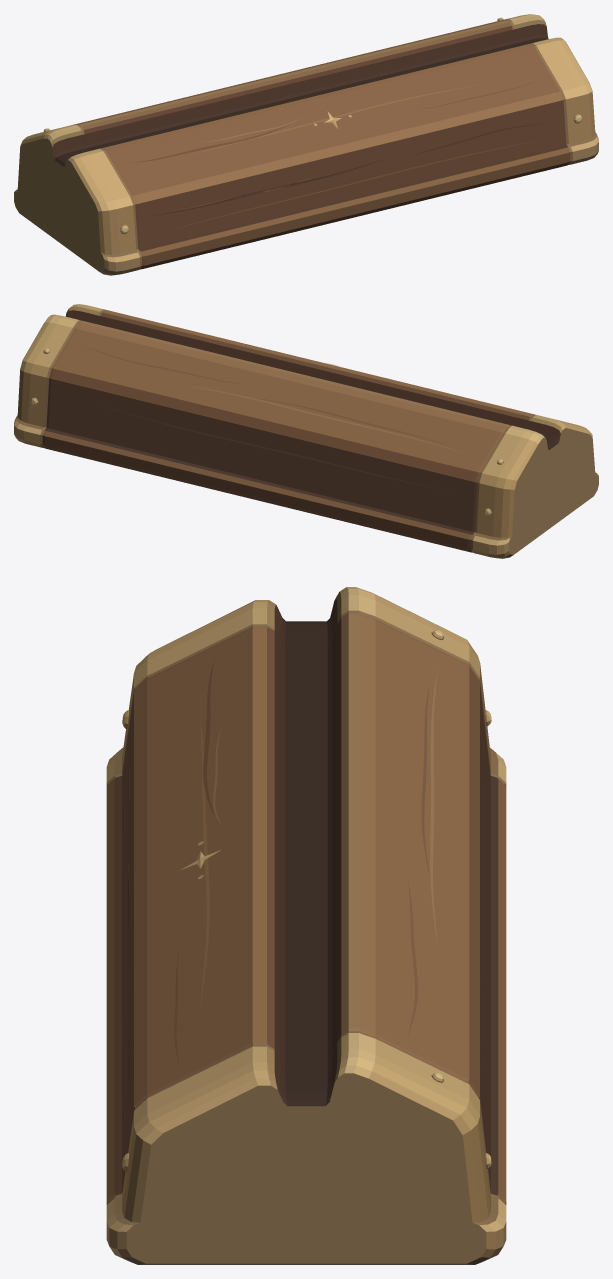
Rendered from postcard_stand.glb.
3 renders of one model, top to bottom at view 1: azimuth 30°, elevation 25°; view 2: azimuth 150°, elevation 25°; view 3: azimuth 270°, elevation 25°, orthographic. The views are drawn at different scales.
Visible parts, largest first — view 1: Postcard stand; view 2: Postcard stand; view 3: Postcard stand.
Boxes of the visible parts, x1,y1,x2,y2 form: Postcard stand: [14, 14, 598, 275]; Postcard stand: [14, 304, 598, 558]; Postcard stand: [106, 587, 506, 1264].
Bounding box in the file's own units: 0.2 × 0.04 × 0.07.
